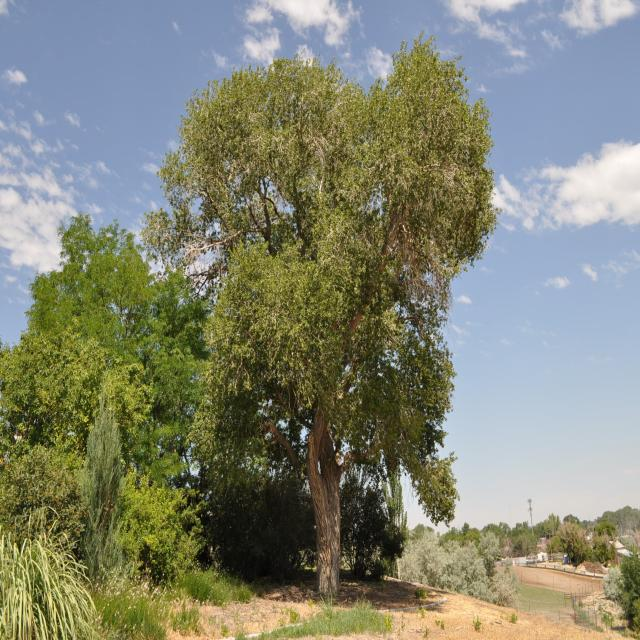Populus angustifolia: (161, 41, 500, 604)
